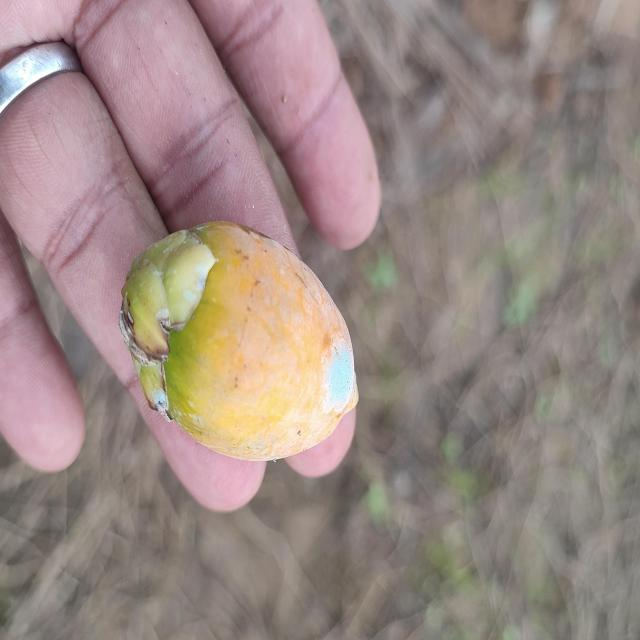good: (118, 222, 359, 463)
